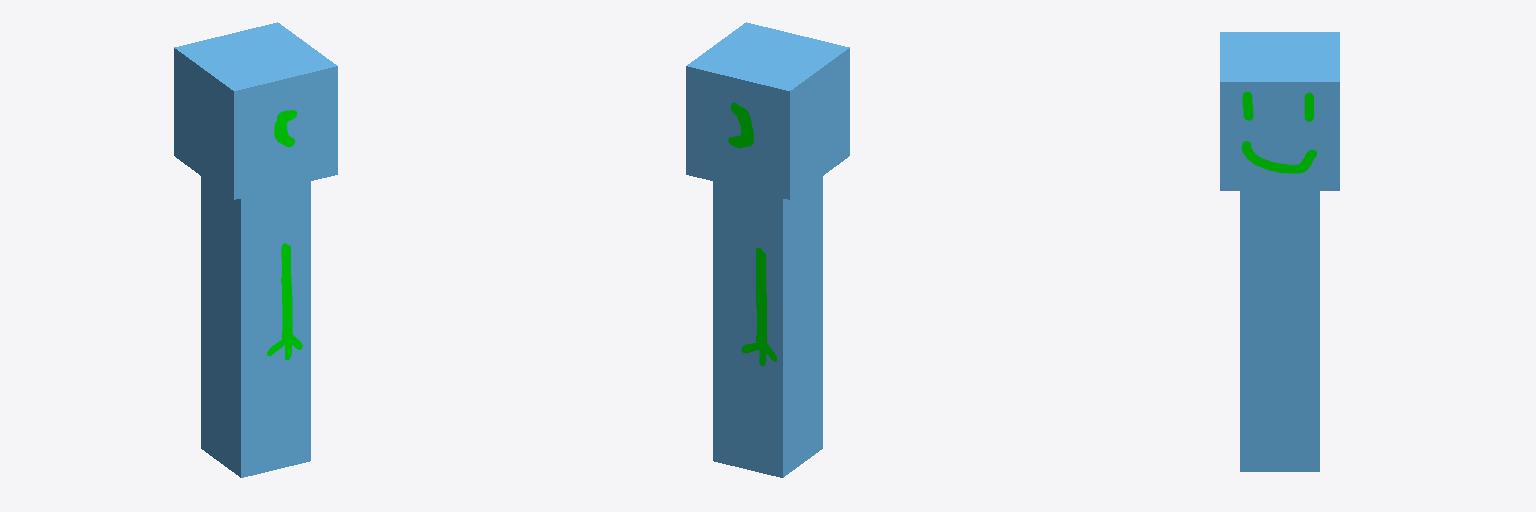
3 renders of one model, left to right at view 1: azimuth 30°, elevation 25°; view 2: azimuth 150°, elevation 25°; view 3: azimuth 270°, elevation 25°, orthographic.
Visible parts, largest first — view 1: Cube, Cube.001; view 2: Cube, Cube.001; view 3: Cube, Cube.001.
Boxes of the visible parts, <box> form: Cube: <box>201,176,310,477</box>; Cube.001: <box>174,22,337,199</box>; Cube: <box>713,176,822,477</box>; Cube.001: <box>686,22,849,199</box>; Cube: <box>1240,191,1319,471</box>; Cube.001: <box>1220,32,1339,190</box>.
Bounding box in the file's own units: 6 × 22 × 6.
2 materials, 1 textured.